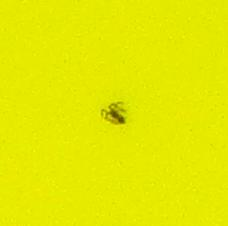Araneae: (100, 100, 128, 126)
